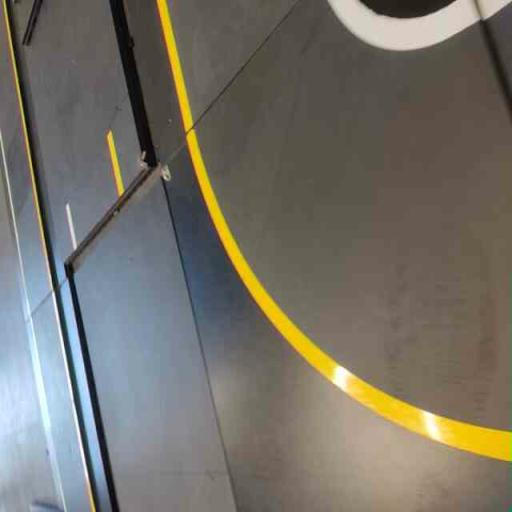right: (169, 0, 511, 461)
